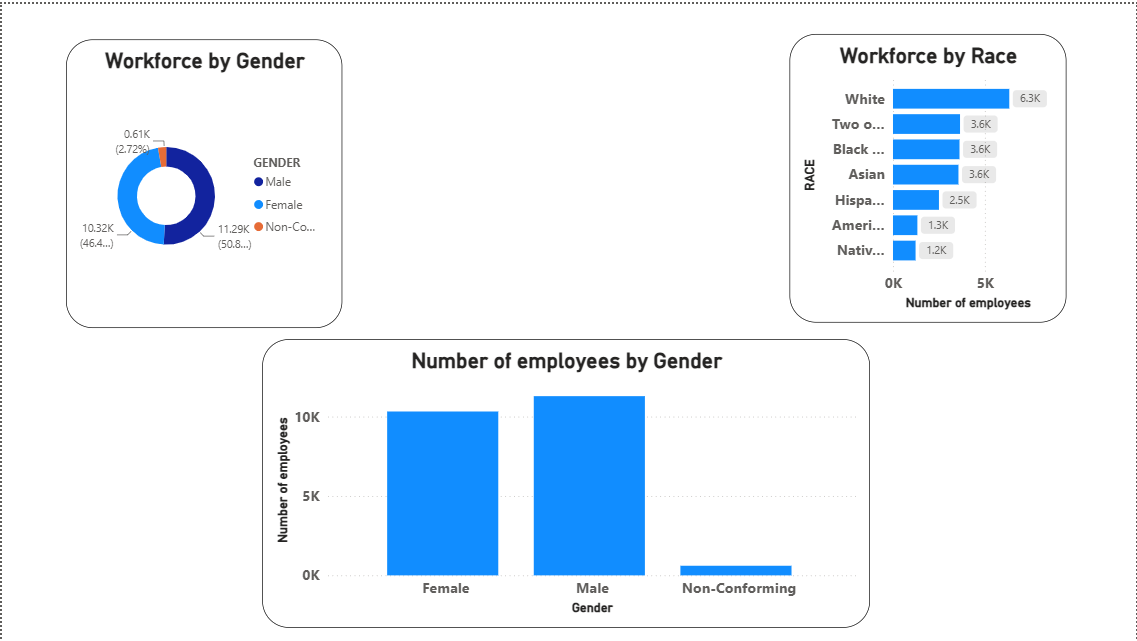

Layout of this report page (visuals, bound fields, positions):
{"tool":"powerbi","page":{"name":"Page 4","canvas":[1280,720],"ordinal":3},"visuals":[{"type":"donutChart","title":"Workforce by Gender","fields":{"Category":["VW_DIVERSITY.GENDER"],"Y":["Sum(VW_DIVERSITY.EMPLOYEE_COUNT)"]},"box":[66.2,66.2,280,280],"z":0},{"type":"clusteredBarChart","title":"Workforce by Race","fields":{"Category":["VW_DIVERSITY.RACE"],"Y":["Sum(VW_DIVERSITY.EMPLOYEE_COUNT)"]},"box":[933.8,66.2,280,280],"z":1000},{"type":"lineClusteredColumnComboChart","fields":{"Category":["VW_DIVERSITY.RACE","VW_DIVERSITY.GENDER"],"Y":["Sum(VW_DIVERSITY.EMPLOYEE_COUNT)"]},"box":[309.2,392.3,661.5,280],"z":2000}]}

Visuals, with their boxes in screenshot pixels (x1, y1, x2, y2), scaled from the page's 1280x720 canvas onto the 1137x641 screenshot:
"Workforce by Gender" donutChart: Rect(59, 59, 308, 308)
"Workforce by Race" clusteredBarChart: Rect(829, 59, 1078, 308)
lineClusteredColumnComboChart - VW_DIVERSITY.RACE x VW_DIVERSITY.GENDER: Rect(275, 349, 862, 599)
